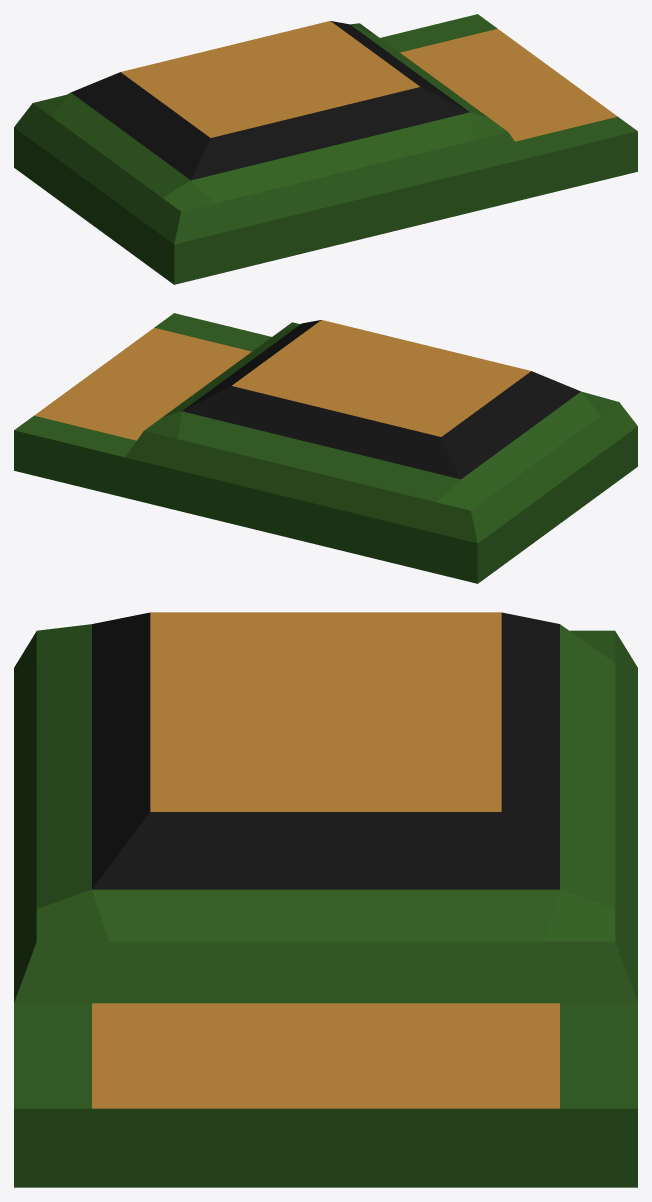
The model's file is ResearchComponent.fbx.
3 renders of one model, top to bottom at view 1: azimuth 30°, elevation 25°; view 2: azimuth 150°, elevation 25°; view 3: azimuth 270°, elevation 25°, orthographic. The views are drawn at different scales.
Visible parts, largest first — view 1: ResearchComponent; view 2: ResearchComponent; view 3: ResearchComponent.
Part boxes in pixels (box(x1,y1,x2,y2)): ResearchComponent: box(14, 14, 637, 284); ResearchComponent: box(14, 313, 637, 583); ResearchComponent: box(14, 612, 637, 1187).
Bounding box in the file's own units: 117 × 24.93 × 69.73.
